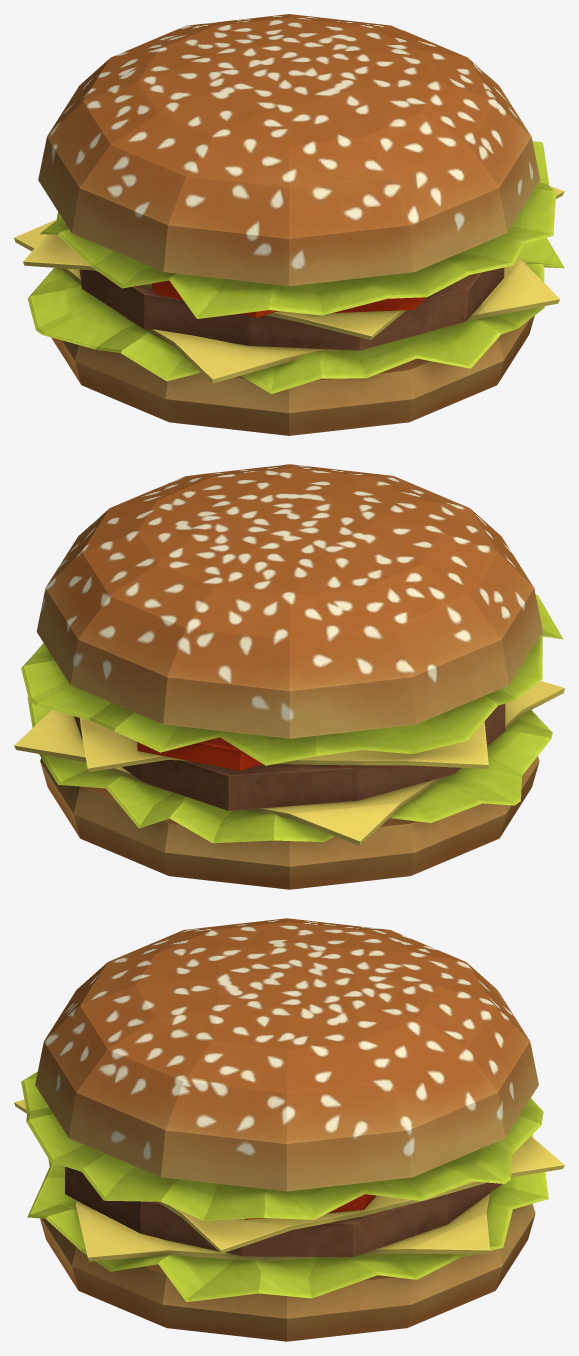
Rendered from Cheeseburger.glb.
3 views of the same model, one above another, from view 1: azimuth 30°, elevation 25°; view 2: azimuth 150°, elevation 25°; view 3: azimuth 270°, elevation 25° (orthographic).
Visible parts, largest first — view 1: Hamburguer_Mesh; view 2: Hamburguer_Mesh; view 3: Hamburguer_Mesh.
Boxes of the visible parts, x1,y1,x2,y2 form: Hamburguer_Mesh: [14, 14, 564, 435]; Hamburguer_Mesh: [14, 464, 564, 889]; Hamburguer_Mesh: [14, 918, 564, 1341].
Bounding box in the file's own units: 7.24 × 3.81 × 7.15.
1 material, 1 textured.
